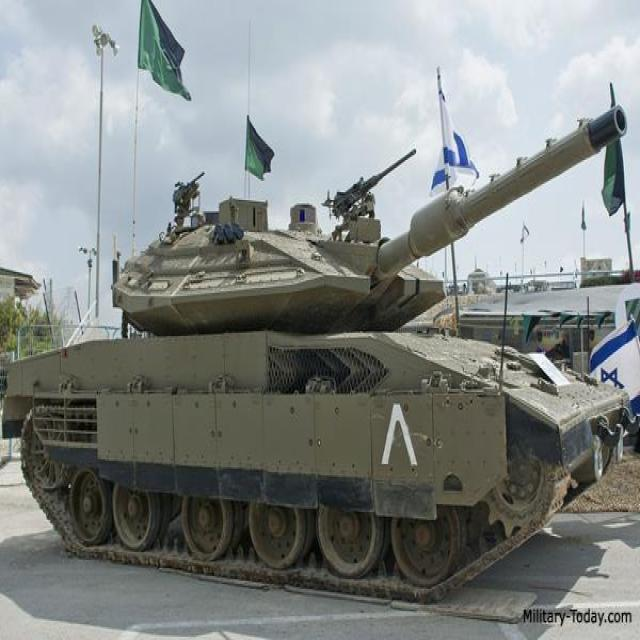Tanks: (8, 195, 630, 594)
